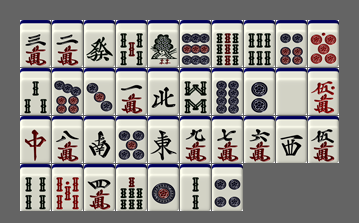0m: (308, 68, 339, 115)
0p: (308, 20, 339, 67)
0s: (52, 164, 83, 211)
1m: (116, 68, 147, 115)
1p: (148, 164, 179, 211)
1s: (148, 20, 179, 67)
1z: (148, 116, 179, 163)
2m: (52, 20, 83, 67)
2p: (244, 68, 275, 115)
2s: (180, 164, 211, 211)
2z: (84, 116, 115, 163)
3m: (20, 20, 51, 67)
3p: (84, 68, 115, 115)
3s: (20, 68, 51, 115)
3z: (276, 116, 307, 163)
4m: (84, 164, 115, 211)
4p: (212, 164, 243, 211)
4s: (20, 164, 51, 211)
4z: (148, 68, 179, 115)
5m: (308, 116, 339, 163)
5p: (116, 116, 147, 163)
5s: (116, 20, 147, 67)
5z: (276, 68, 307, 115)
6m: (244, 116, 275, 163)
6p: (276, 20, 307, 67)
6s: (244, 20, 275, 67)
6z: (84, 20, 115, 67)
7m: (212, 116, 243, 163)
7p: (52, 68, 83, 115)
7s: (116, 164, 147, 211)
7z: (20, 116, 51, 163)
8m: (52, 116, 83, 163)
8p: (212, 68, 243, 115)
8s: (180, 68, 211, 115)
9m: (180, 116, 211, 163)
9p: (180, 20, 211, 67)
9s: (212, 20, 243, 67)
